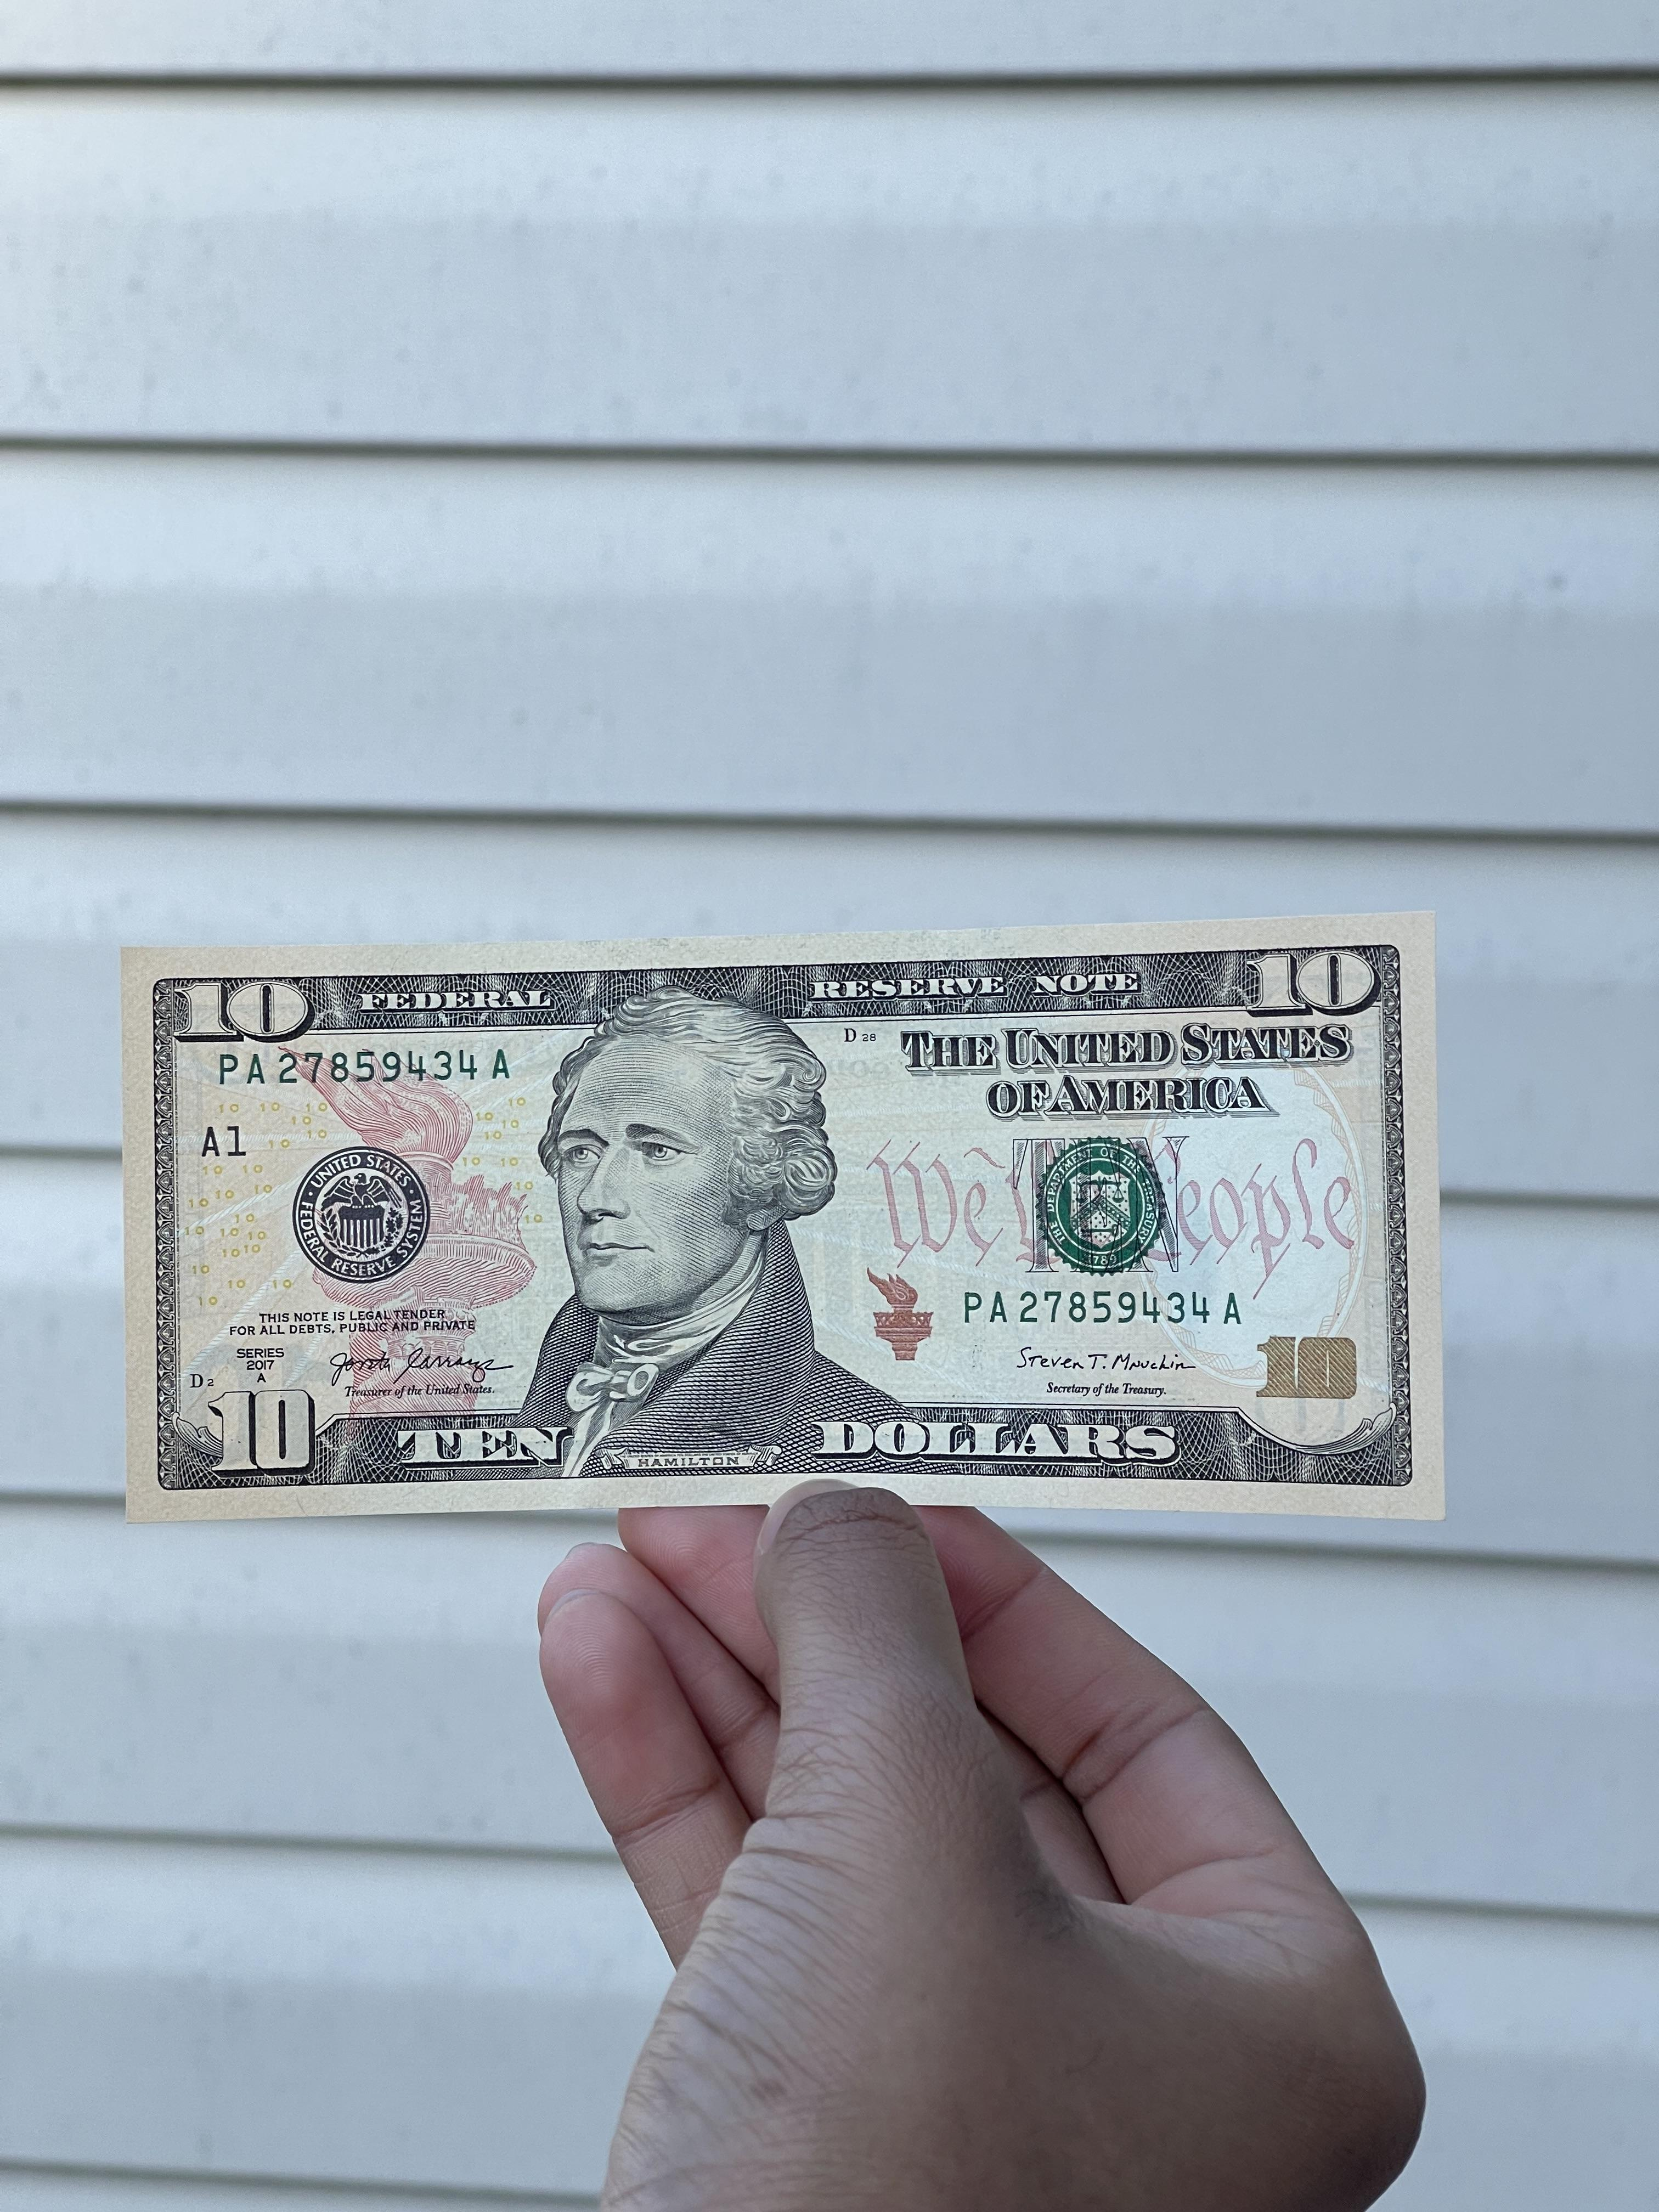TenBill: (117, 906, 1453, 1527)
